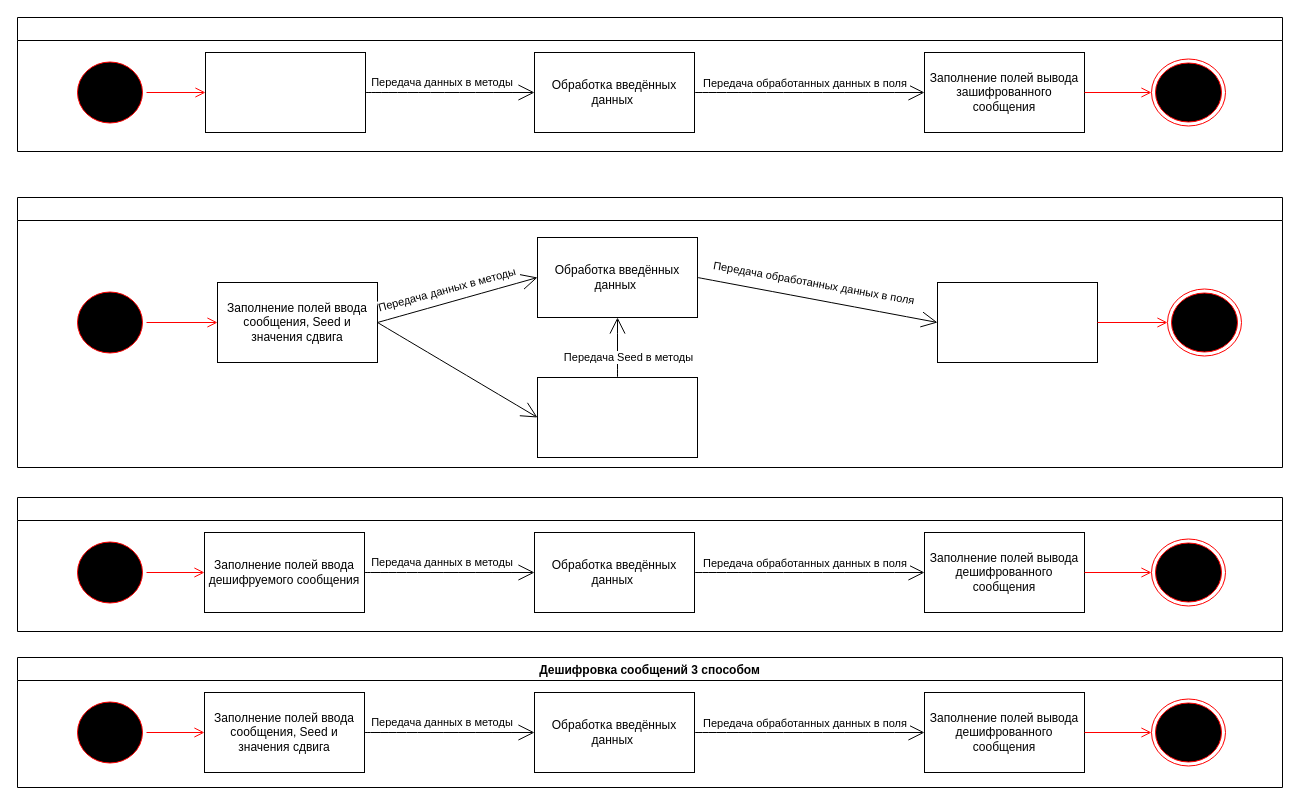
Some shapes in this 1300 by 805 pixel diagram are drawn without their labels. The shapes that lost their labels are listed below. From the top down, each one's box as (x1, y1, x2, y2) in pixels, then its label:
(204, 52, 366, 132): Заполнение полей ввода шифруемого сообщения
(16, 16, 1282, 152): Шифровка сообщений 1, 2 и 4 способом
(16, 196, 1282, 468): Шифровка сообщений 3 способом
(936, 282, 1098, 362): Заполнение полей вывода зашифрованного сообщения и Seed
(536, 376, 698, 458): Генерация Seed
(16, 496, 1282, 632): Дешифровка сообщений 1, 2 и 4 способом
